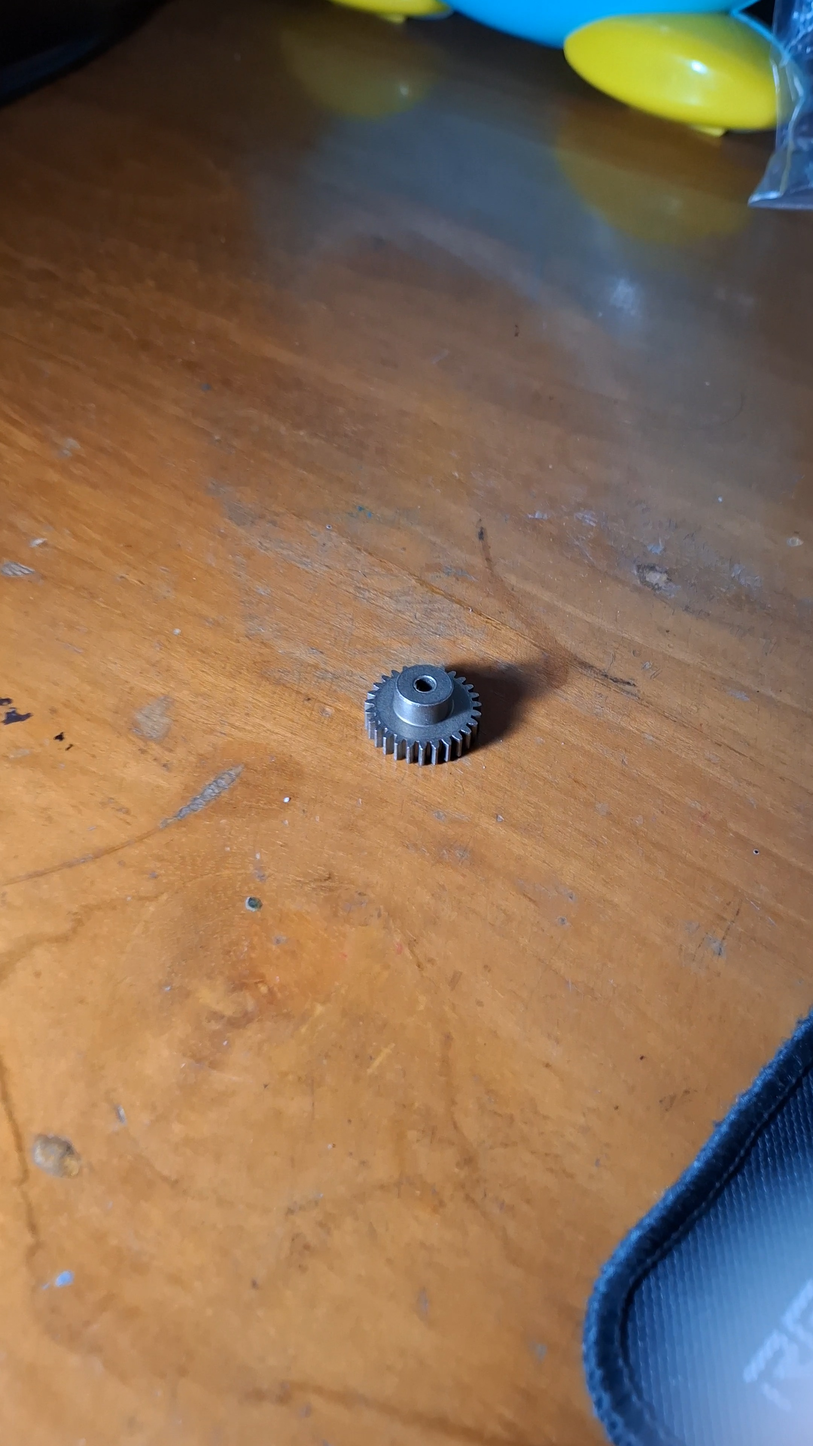spur gear: (365, 664, 480, 764)
